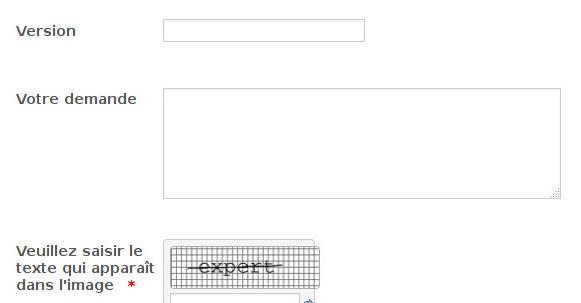field: (156, 86, 565, 205), (160, 16, 367, 47)
field_with_label: (18, 82, 571, 210), (16, 12, 370, 50)
